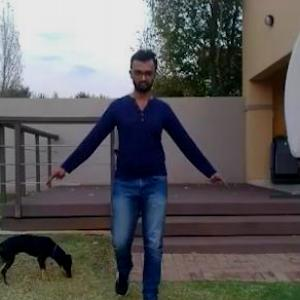land: (66, 61, 218, 299)
